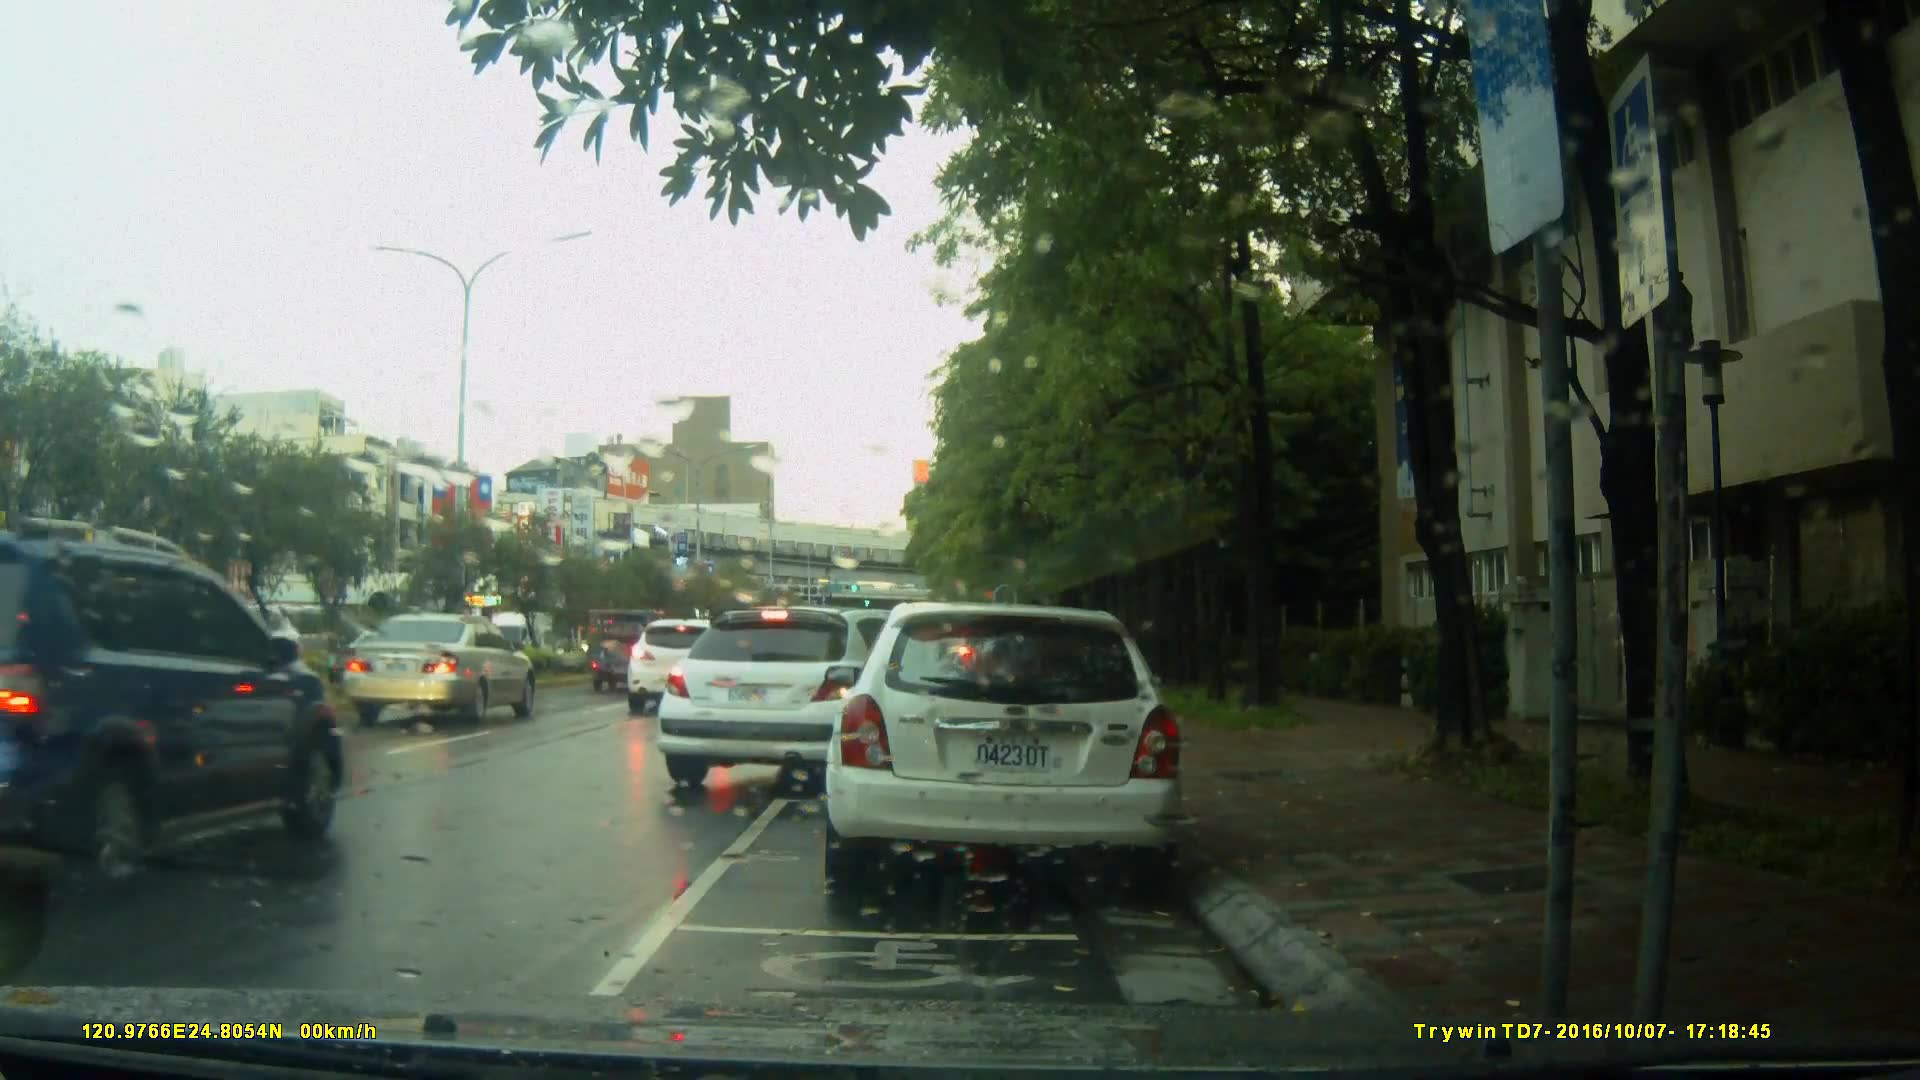vehicle: (8, 517, 351, 905), (820, 603, 1188, 898), (654, 604, 957, 799), (338, 613, 538, 725), (626, 616, 746, 719)
